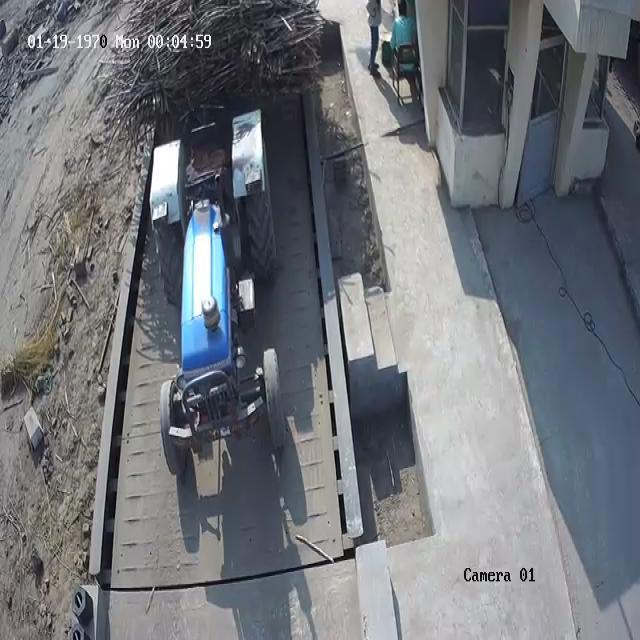Tratores - v5 YOLO V8L 2024-11-13: (145, 143, 293, 474)
